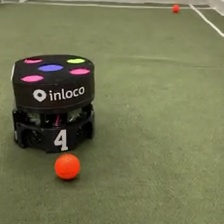ball: (53, 151, 80, 180), (170, 2, 180, 12)
robot: (9, 52, 96, 154)
